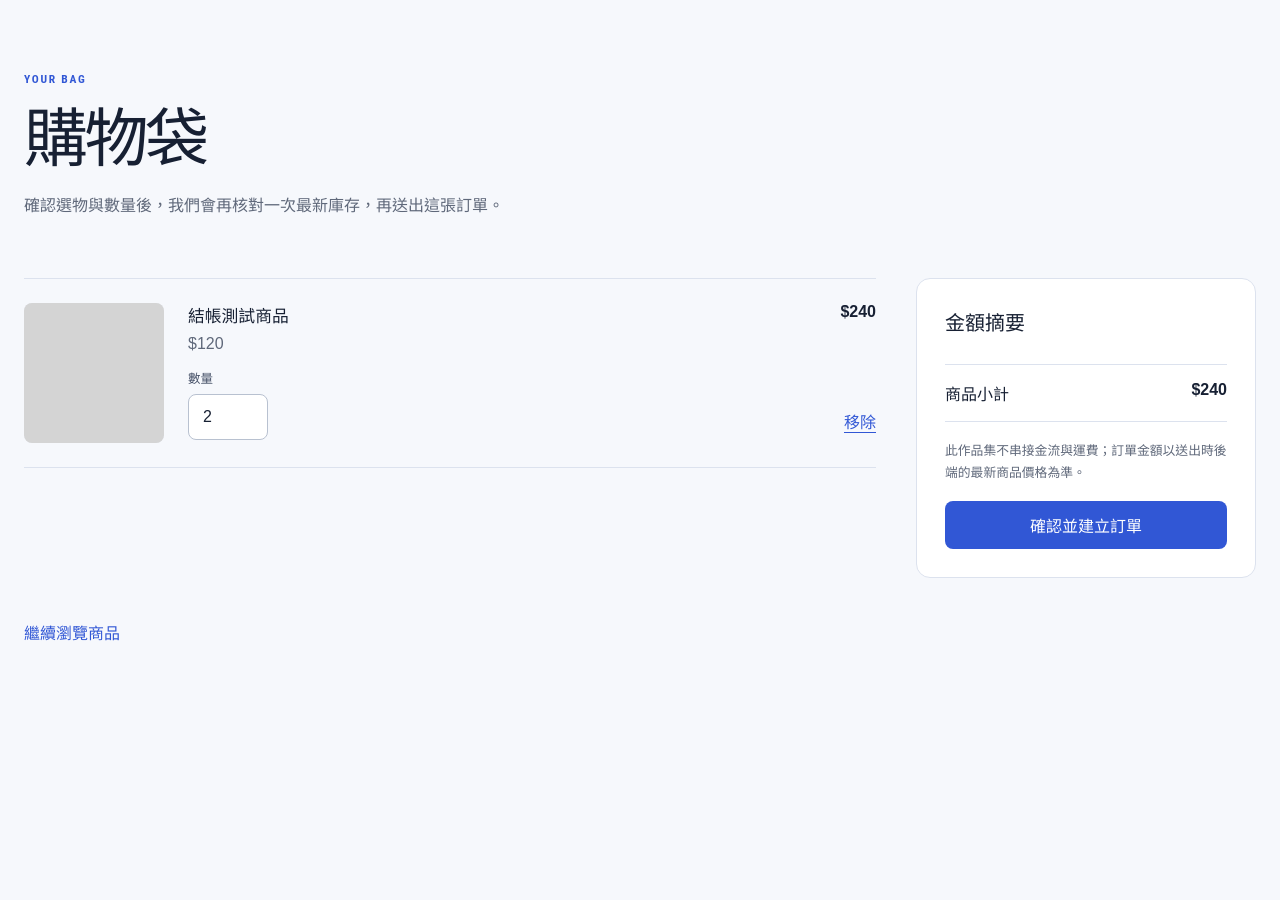
Test case: CartPage › 最新庫存不足時阻止建立訂單
Click the button "確認並建立訂單".
click(1086, 525)  # box top-left (945, 501), bottom-right (1227, 549)
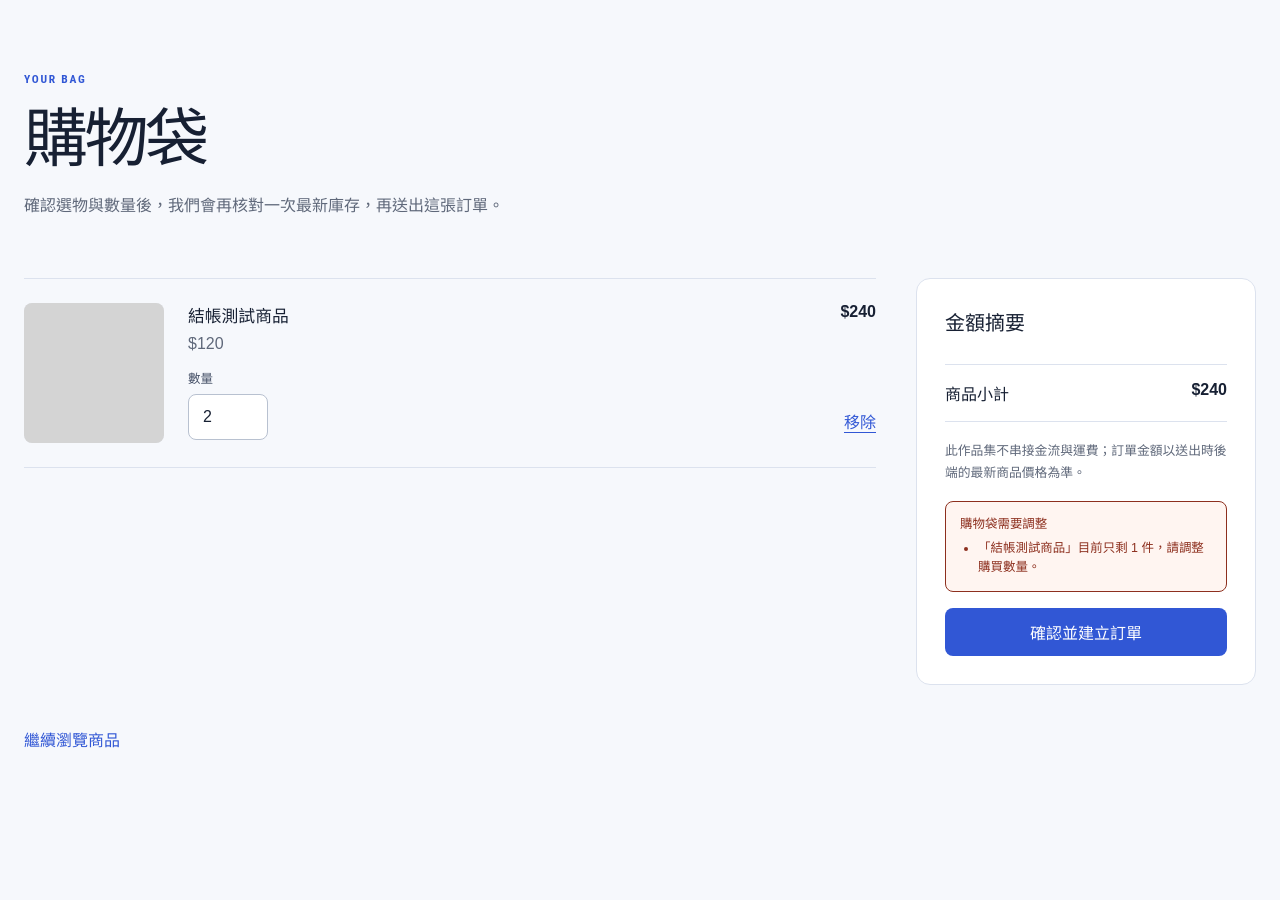
Now the message shows "「結帳測試商品」目前只剩 1 件，請調整購買數量。", box top-left (978, 541), bottom-right (1204, 574)
